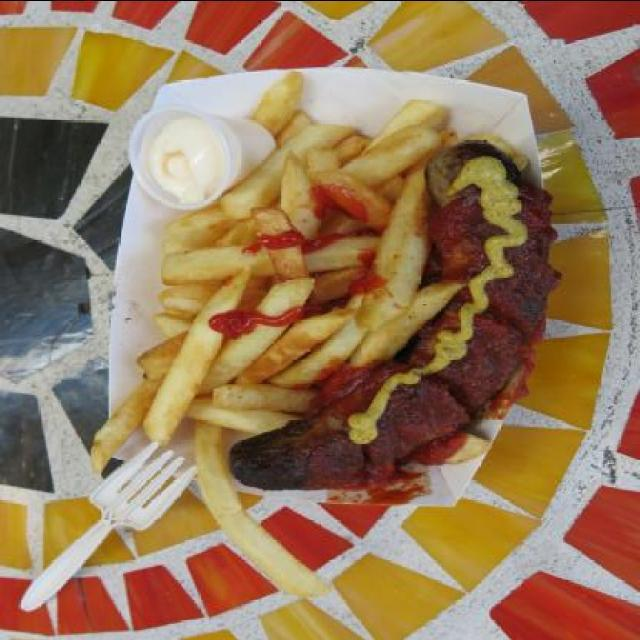French fries: (89, 66, 445, 618)
